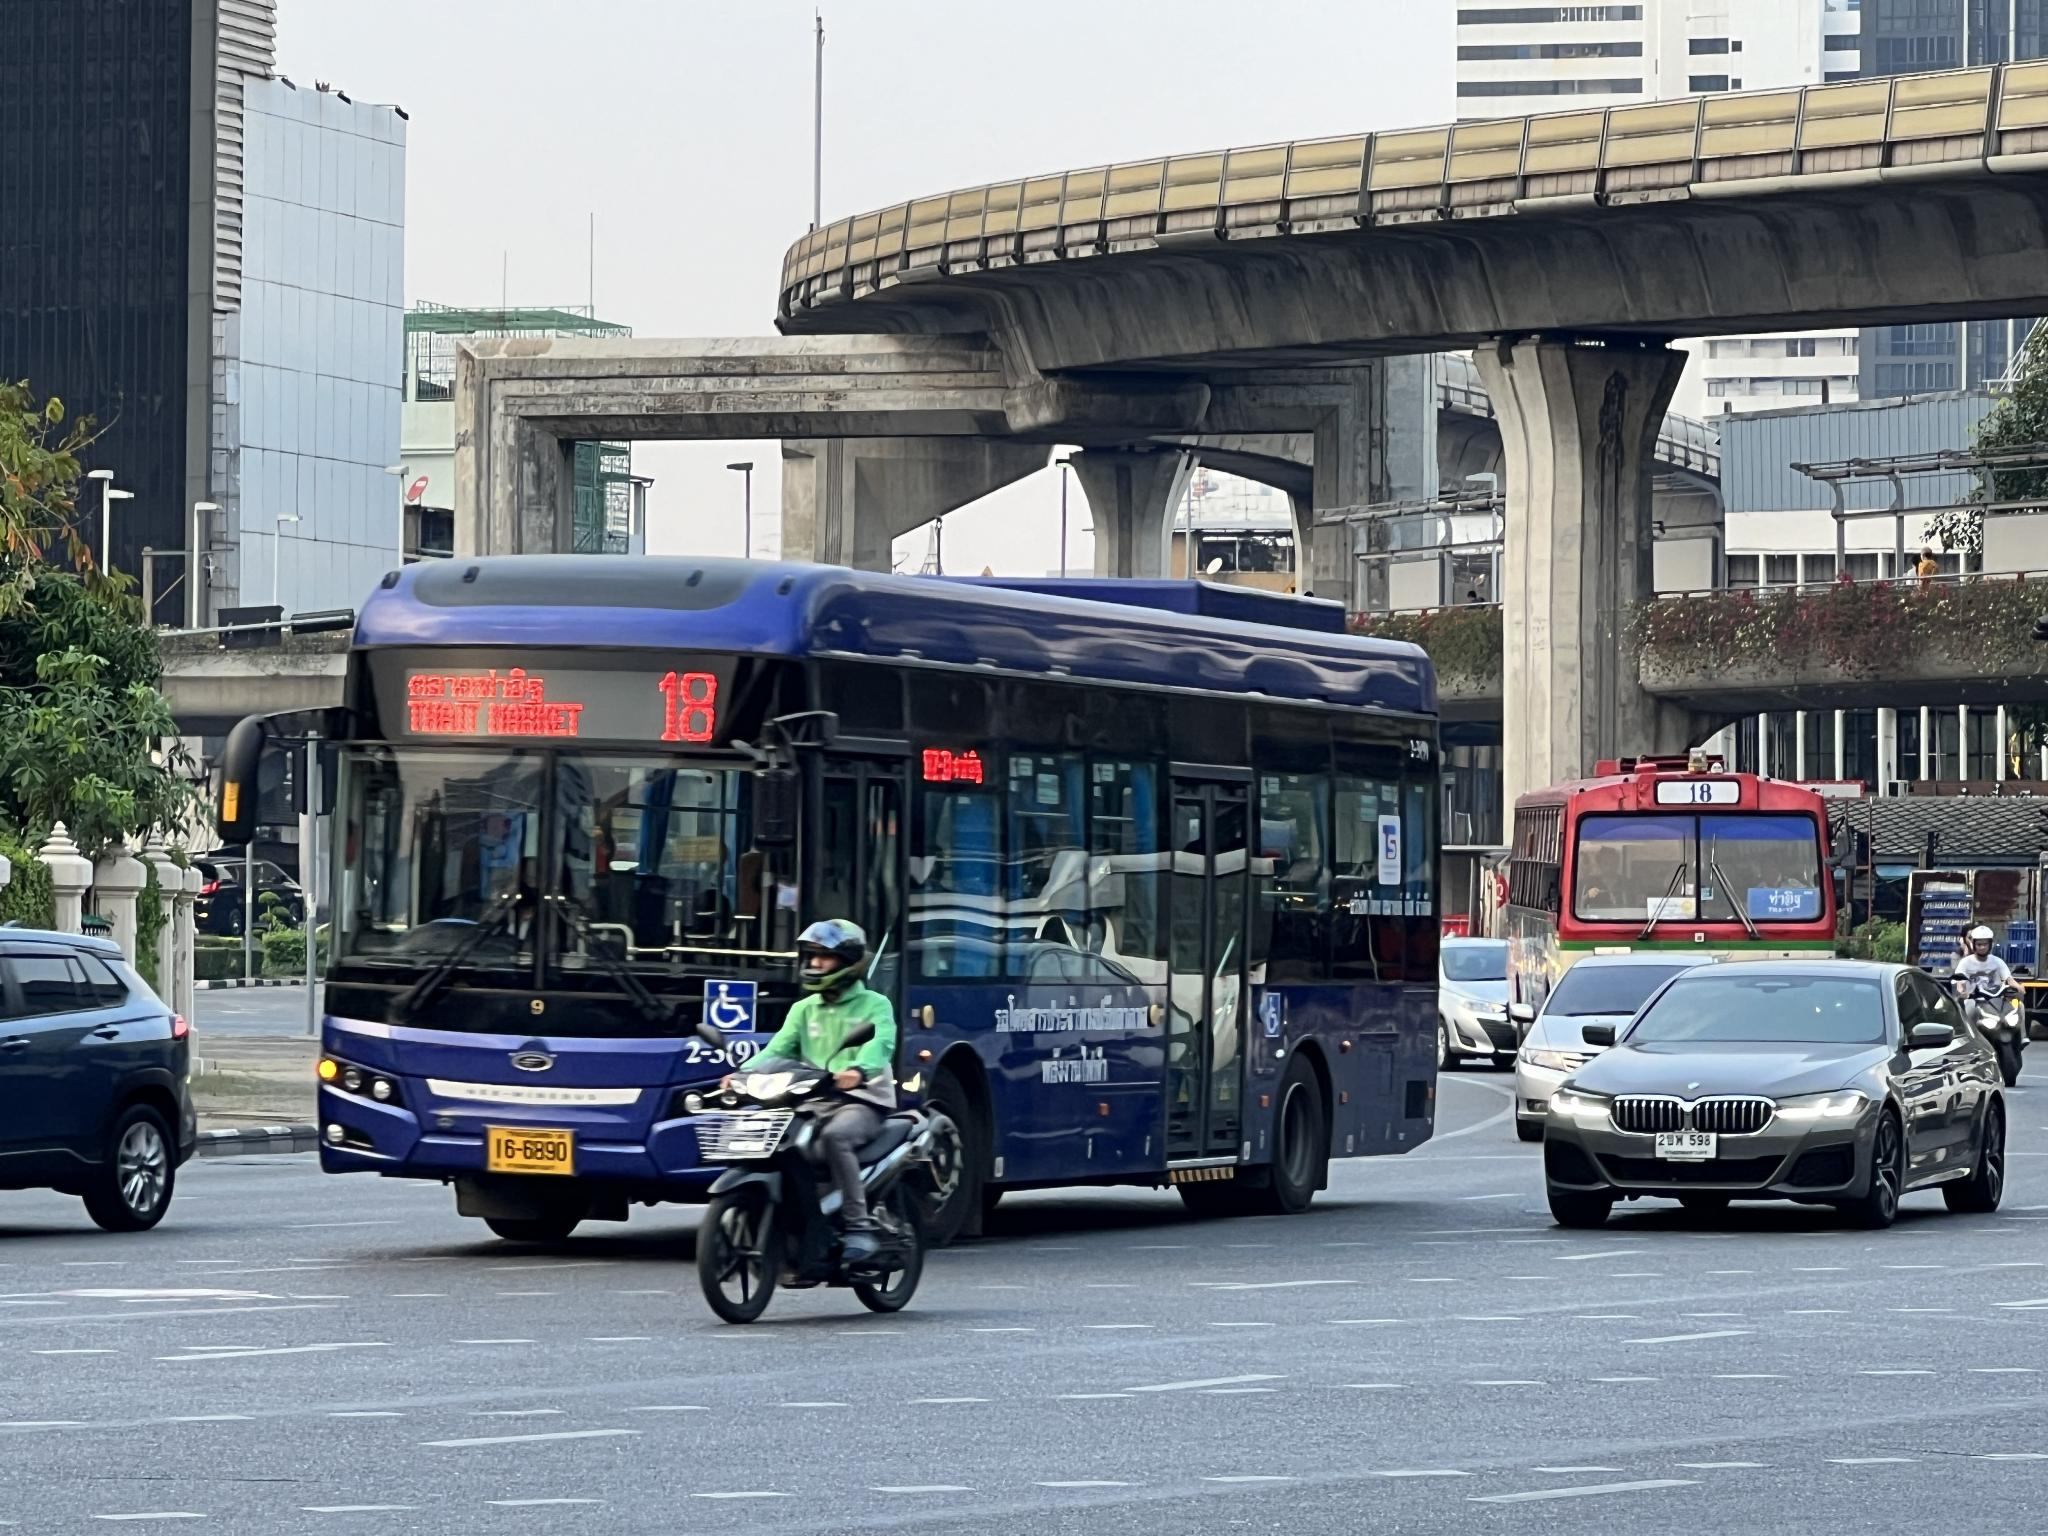BMTA-bus: (1505, 758, 1842, 1041)
Bus Line Number: (640, 644, 743, 755), (1677, 779, 1727, 813)
Bus Side Number: (681, 1033, 768, 1068)
Destination Sign: (393, 655, 606, 749), (1748, 881, 1821, 916)
TSB-Bus: (311, 553, 1450, 1249)
